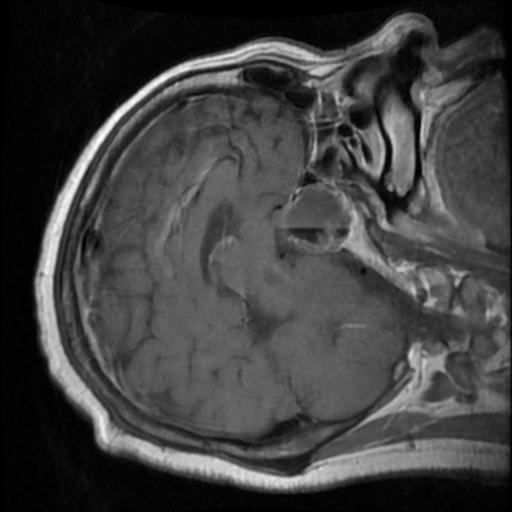pituitary tumour: (276, 182, 356, 256)
